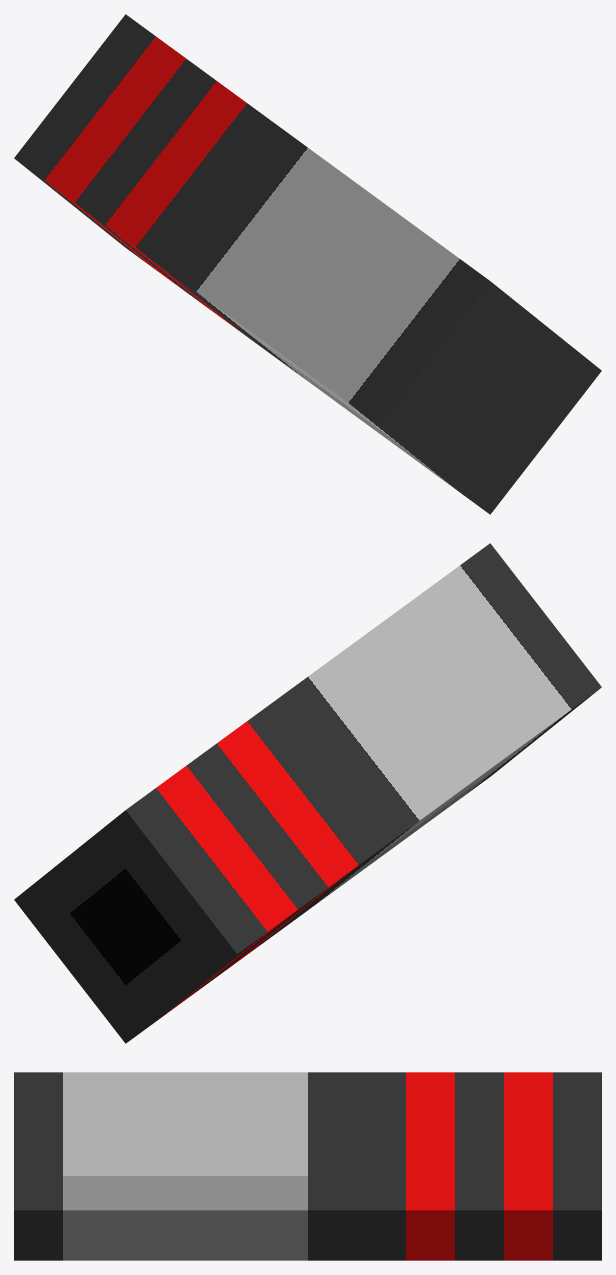
3 views of the same model, one above another, from view 1: azimuth 30°, elevation 25°; view 2: azimuth 150°, elevation 25°; view 3: azimuth 270°, elevation 25° (orthographic). The views are drawn at different scales.
Visible parts, largest first — view 1: mesh; view 2: mesh; view 3: mesh.
Boxes of the visible parts, x1,y1,x2,y2 form: mesh: [14, 14, 601, 514]; mesh: [14, 543, 601, 1043]; mesh: [14, 1072, 601, 1260].
Size of the model in its own units: 106 by 106 by 300.
1 material, 1 textured.
